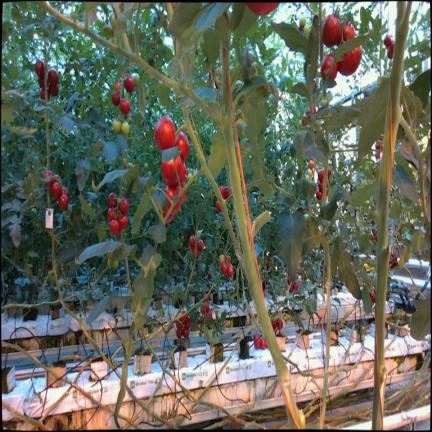6kp_peduncle: (175, 106, 195, 140)
6kp_petiole: (191, 94, 235, 151), (383, 85, 415, 151), (184, 151, 212, 190), (217, 192, 233, 219)
MainStem: (223, 52, 302, 429), (372, 0, 407, 430), (141, 328, 266, 430), (51, 229, 122, 380), (182, 103, 245, 272), (2, 342, 114, 415), (319, 245, 330, 429), (148, 302, 199, 341), (322, 160, 328, 208), (46, 112, 50, 170), (45, 38, 48, 100)
tomato: (338, 23, 362, 75), (154, 116, 175, 150), (338, 46, 361, 75), (162, 155, 182, 186), (322, 14, 341, 46), (165, 185, 181, 214), (321, 54, 338, 80), (175, 131, 189, 161), (246, 2, 279, 14), (163, 202, 174, 223), (110, 219, 120, 236), (124, 75, 134, 92), (51, 182, 61, 199), (118, 198, 128, 214), (120, 98, 130, 114), (48, 69, 58, 85), (180, 162, 187, 184), (35, 60, 44, 77), (118, 214, 128, 229), (48, 84, 59, 96), (59, 194, 68, 208), (121, 121, 129, 136), (112, 91, 120, 106), (383, 34, 392, 47), (108, 193, 117, 206), (108, 208, 117, 221), (113, 119, 121, 133), (132, 73, 140, 85), (197, 239, 204, 251), (221, 262, 228, 274), (254, 334, 260, 347), (318, 170, 324, 182), (219, 186, 225, 198), (189, 235, 195, 247), (387, 47, 393, 58), (219, 254, 225, 265), (261, 338, 267, 349), (38, 78, 44, 88), (114, 82, 121, 90), (225, 187, 230, 198), (63, 187, 68, 198), (316, 190, 322, 199), (302, 116, 307, 126), (216, 201, 221, 211), (40, 89, 45, 99), (187, 172, 193, 180), (225, 255, 231, 263), (318, 182, 323, 191), (328, 166, 332, 177)
